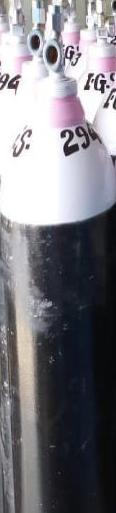cylinder: (1, 1, 116, 513)
